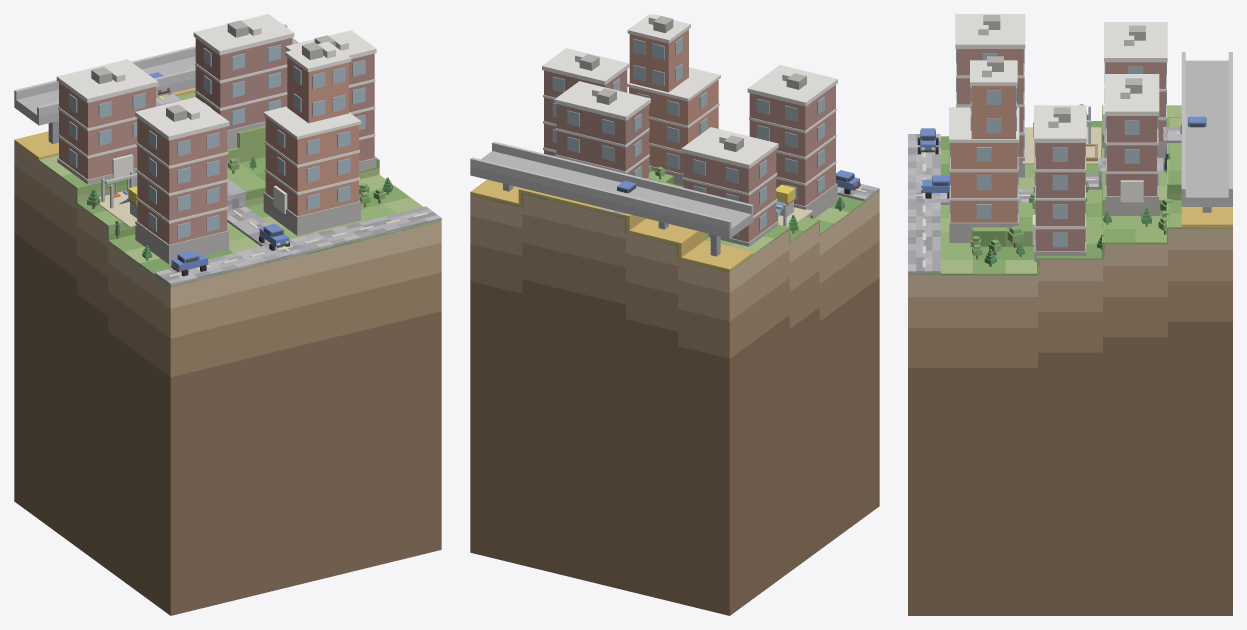
File: block_6_permeable_20.glb
3 views of the same model, side by side, from view 1: azimuth 30°, elevation 25°; view 2: azimuth 150°, elevation 25°; view 3: azimuth 270°, elevation 25° (orthographic). The views are drawn at different scales.
Visible parts, largest first — view 1: Patch_UpperLeft_b01_PP, Res_UL_04_PP, Res_UL_01_PP, Res_UL_00_PP, Res_UL_02_PP, Green_UpperLeft_j4_b01_PP, Roads_UpperLeft_b01_PP, Bridge_UpperLeft_b01_PP, Res_UL_03_PP, Playground_UpperLeft_PP, Paver_UpperLeft_b01_PP, ULCar_005_PP; view 2: Patch_UpperLeft_b01_PP, Bridge_UpperLeft_b01_PP, Res_UL_01_PP, Res_UL_04_PP, Res_UL_02_PP, Res_UL_00_PP, Paver_UpperLeft_b01_PP, Res_UL_03_PP, Green_UpperLeft_j4_b01_PP, Playground_UpperLeft_PP, Roads_UpperLeft_b01_PP; view 3: Patch_UpperLeft_b01_PP, Res_UL_04_PP, Green_UpperLeft_j4_b01_PP, Res_UL_03_PP, Res_UL_02_PP, Bridge_UpperLeft_b01_PP, Roads_UpperLeft_b01_PP, Res_UL_01_PP, Res_UL_00_PP, Paver_UpperLeft_b01_PP, Playground_UpperLeft_PP, ULCar_022_PP (+1 smaller).
Part boxes in pixels (bbox=[...]): Patch_UpperLeft_b01_PP: bbox=[14, 143, 441, 615]; Res_UL_04_PP: bbox=[263, 41, 361, 235]; Res_UL_01_PP: bbox=[135, 97, 229, 264]; Res_UL_00_PP: bbox=[56, 59, 158, 186]; Res_UL_02_PP: bbox=[193, 14, 294, 149]; Green_UpperLeft_j4_b01_PP: bbox=[14, 92, 441, 287]; Roads_UpperLeft_b01_PP: bbox=[155, 93, 441, 286]; Bridge_UpperLeft_b01_PP: bbox=[14, 24, 298, 143]; Res_UL_03_PP: bbox=[285, 30, 376, 171]; Playground_UpperLeft_PP: bbox=[98, 171, 137, 227]; Paver_UpperLeft_b01_PP: bbox=[14, 87, 195, 160]; ULCar_005_PP: bbox=[171, 250, 208, 276]; Patch_UpperLeft_b01_PP: bbox=[470, 192, 879, 615]; Bridge_UpperLeft_b01_PP: bbox=[470, 141, 753, 256]; Res_UL_01_PP: bbox=[747, 65, 837, 218]; Res_UL_04_PP: bbox=[627, 14, 720, 186]; Res_UL_02_PP: bbox=[554, 81, 650, 179]; Res_UL_00_PP: bbox=[681, 127, 778, 246]; Paver_UpperLeft_b01_PP: bbox=[470, 179, 753, 272]; Res_UL_03_PP: bbox=[542, 48, 629, 156]; Green_UpperLeft_j4_b01_PP: bbox=[470, 170, 879, 272]; Playground_UpperLeft_PP: bbox=[776, 184, 812, 226]; Roads_UpperLeft_b01_PP: bbox=[600, 183, 879, 218]; Patch_UpperLeft_b01_PP: bbox=[908, 228, 1232, 615]; Res_UL_04_PP: bbox=[949, 56, 1019, 242]; Green_UpperLeft_j4_b01_PP: bbox=[908, 105, 1232, 275]; Res_UL_03_PP: bbox=[1032, 105, 1086, 261]; Res_UL_02_PP: bbox=[1105, 74, 1159, 215]; Bridge_UpperLeft_b01_PP: bbox=[1181, 52, 1232, 212]; Roads_UpperLeft_b01_PP: bbox=[908, 127, 1181, 275]; Res_UL_01_PP: bbox=[955, 14, 1025, 177]; Res_UL_00_PP: bbox=[1102, 22, 1167, 157]; Paver_UpperLeft_b01_PP: bbox=[1181, 207, 1232, 228]; Playground_UpperLeft_PP: bbox=[1022, 104, 1101, 164]; ULCar_022_PP: bbox=[921, 175, 949, 198].
Bounding box in the file's own units: 9.5 × 16.54 × 9.5.
